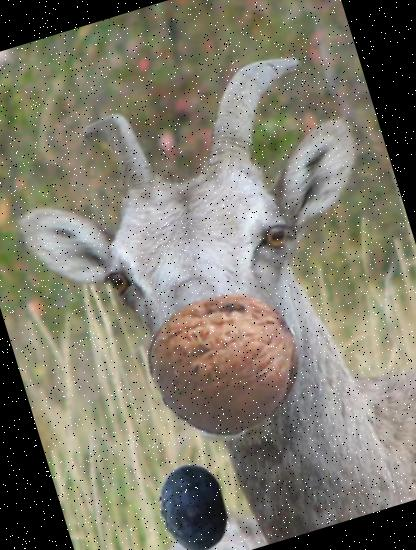Blueberry: (137, 452, 248, 550)
Walnut: (133, 270, 319, 456)
